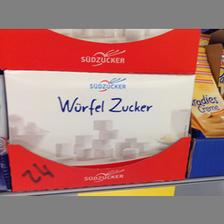Zucker: (2, 69, 194, 164)
